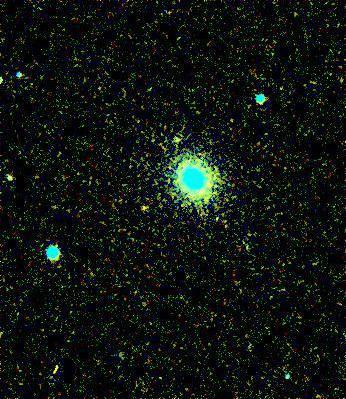star: (129, 194, 159, 224)
